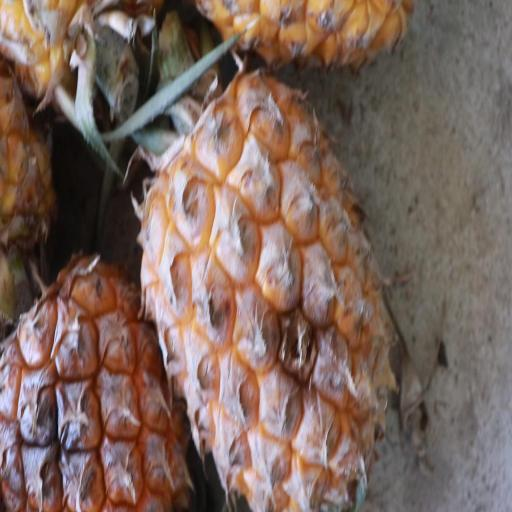Pineapple - v8 v1: (141, 54, 402, 510), (0, 238, 194, 512)
